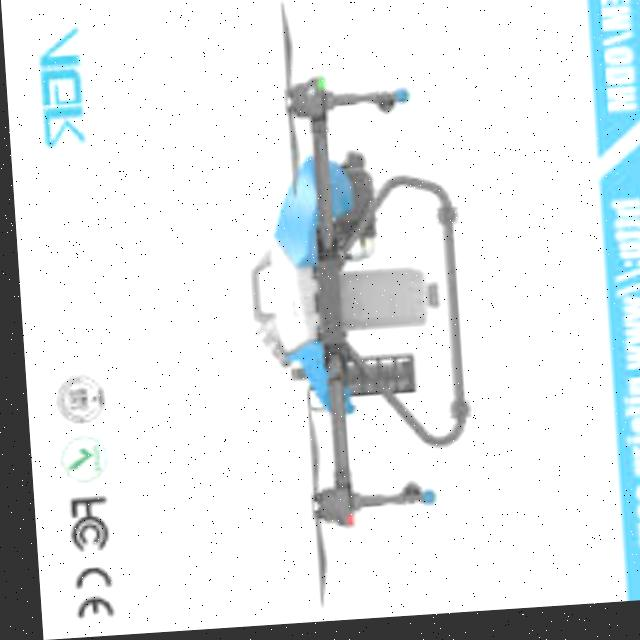drone: (210, 11, 496, 604)
